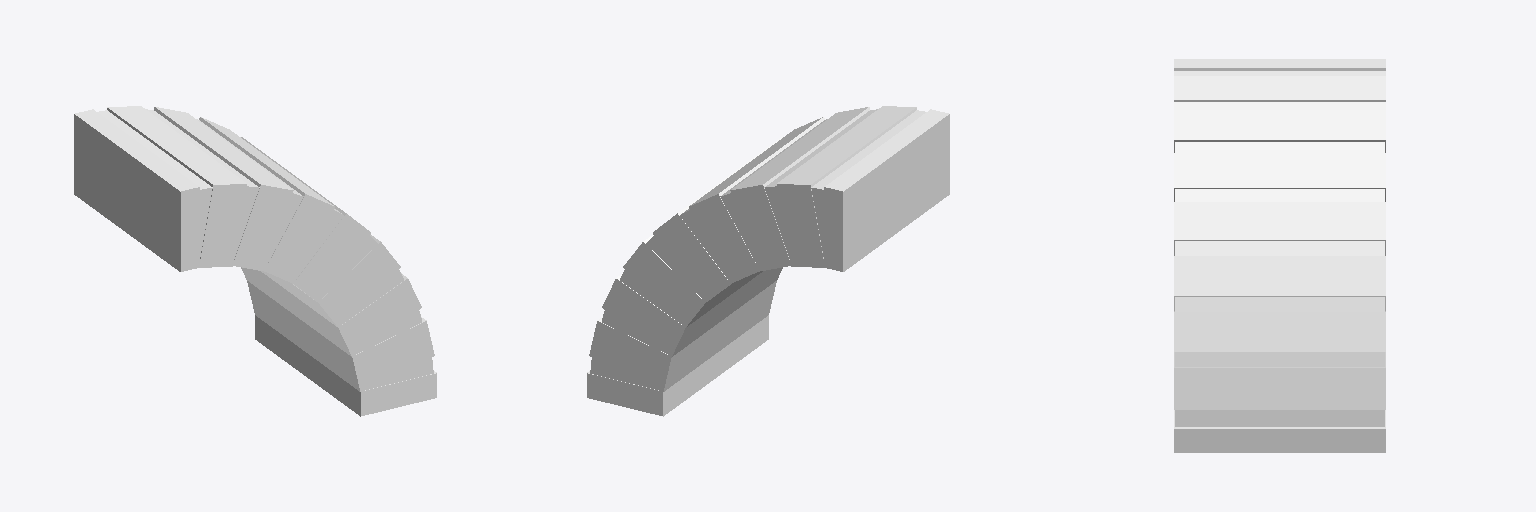
File: mt_arch_straight.obj
The picture shows the model from 3 angles: view 1: azimuth 30°, elevation 25°; view 2: azimuth 150°, elevation 25°; view 3: azimuth 270°, elevation 25°; orthographic projection.
Visible parts, largest first — view 1: cube.008, cube.015, cube.009, cube.010, cube.014, cube.007, cube.011, cube.013, cube.012, cube, cube.000, cube.004 (+1 smaller); view 2: cube.008, cube.015, cube.009, cube.010, cube.014, cube.007, cube.011, cube.013, cube.012, cube, cube.000, cube.004 (+1 smaller); view 3: cube.015, cube.013, cube.014, cube.012, cube.011, cube.010, cube.007, cube.009, cube.004, cube.002, cube.003, cube.006 (+5 smaller).
Part boxes in pixels (x1,y1,x2,y2): cube.008: (74, 109, 199, 271); cube.015: (247, 281, 434, 391); cube.009: (107, 106, 246, 267); cube.010: (154, 107, 293, 271); cube.014: (241, 267, 421, 356); cube.007: (255, 315, 436, 416); cube.011: (199, 117, 334, 283); cube.013: (261, 235, 400, 327); cube.012: (241, 137, 370, 302); cube: (98, 110, 212, 256); cube.000: (146, 109, 259, 258); cube.004: (364, 358, 433, 390); cube.008: (824, 109, 949, 271); cube.015: (589, 281, 776, 391); cube.009: (777, 106, 916, 267); cube.010: (730, 107, 869, 271); cube.014: (602, 267, 782, 356); cube.007: (587, 315, 768, 416); cube.011: (689, 117, 824, 283); cube.013: (623, 235, 762, 327); cube.012: (653, 137, 782, 302); cube: (811, 110, 925, 256); cube.000: (764, 109, 877, 258); cube.004: (590, 358, 659, 390); cube.015: (1174, 352, 1385, 409); cube.013: (1174, 256, 1385, 310); cube.014: (1174, 311, 1385, 351); cube.012: (1174, 202, 1385, 255); cube.011: (1174, 153, 1385, 201); cube.010: (1174, 110, 1385, 152); cube.007: (1174, 410, 1385, 452); cube.009: (1174, 76, 1385, 101); cube.004: (1175, 410, 1384, 426); cube.002: (1175, 241, 1384, 255); cube.003: (1175, 297, 1384, 311); cube.006: (1175, 352, 1384, 366).
Size of the model in its own units: 1.42 by 1.42 by 1.02.